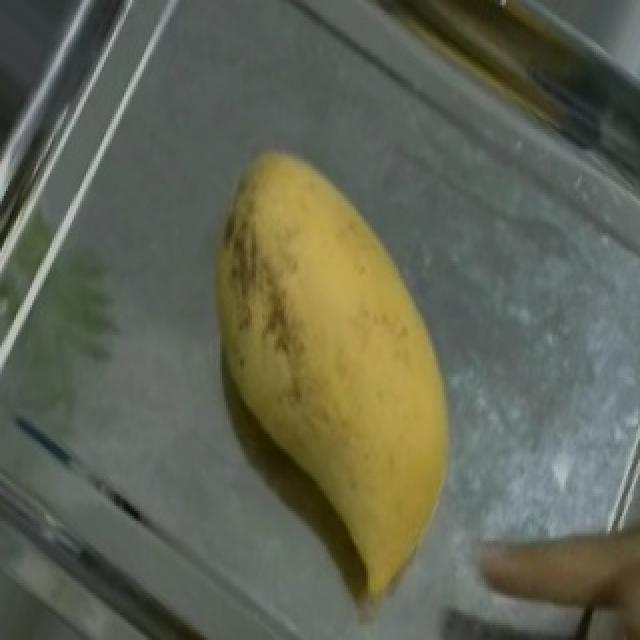fruit: (166, 107, 508, 506)
